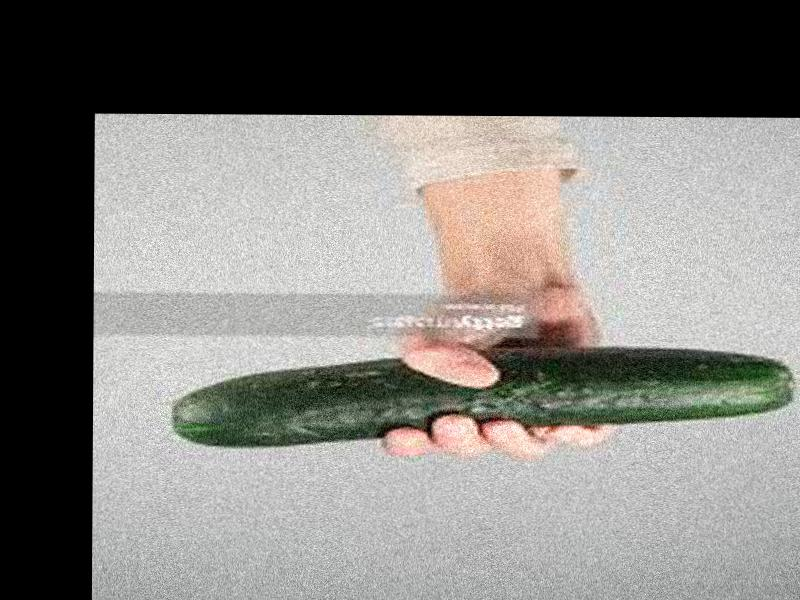Cucumber: (171, 345, 784, 451)
